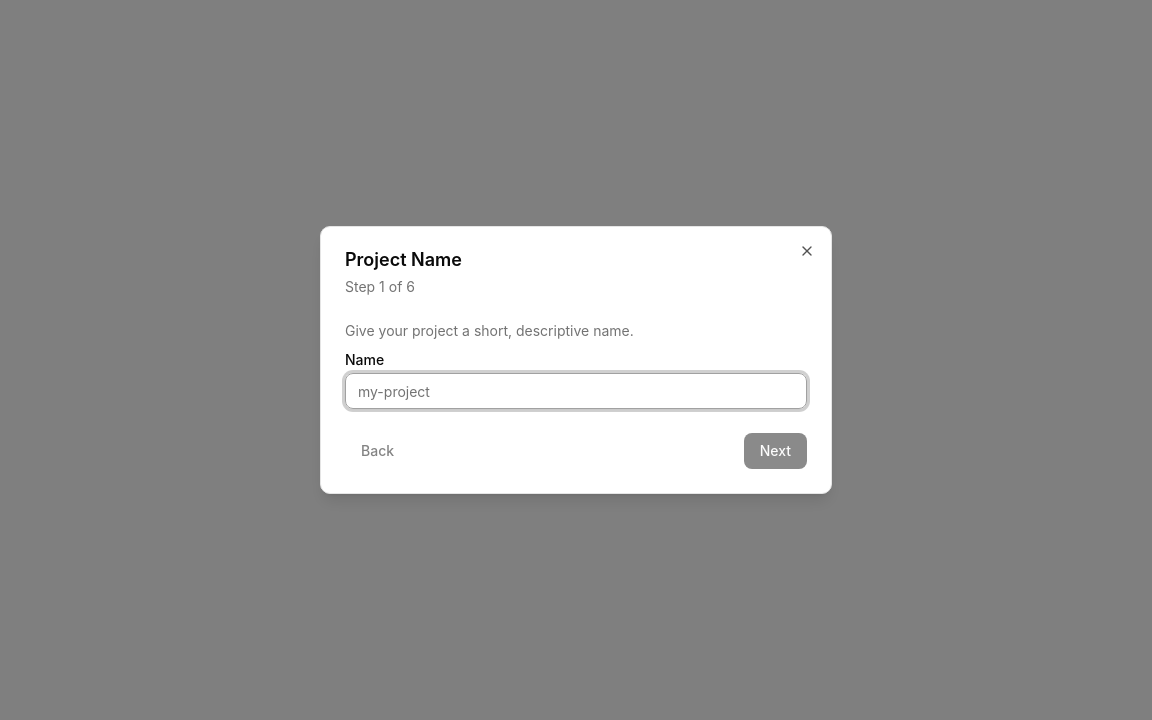
NewProjectWizard › shows Create Project button on the last step (step 6)
The width and height of the screenshot is (1152, 720).
Type "demo-project" into the field labelled "Name" at (576, 391), box x1=345 y1=373 x2=807 y2=409
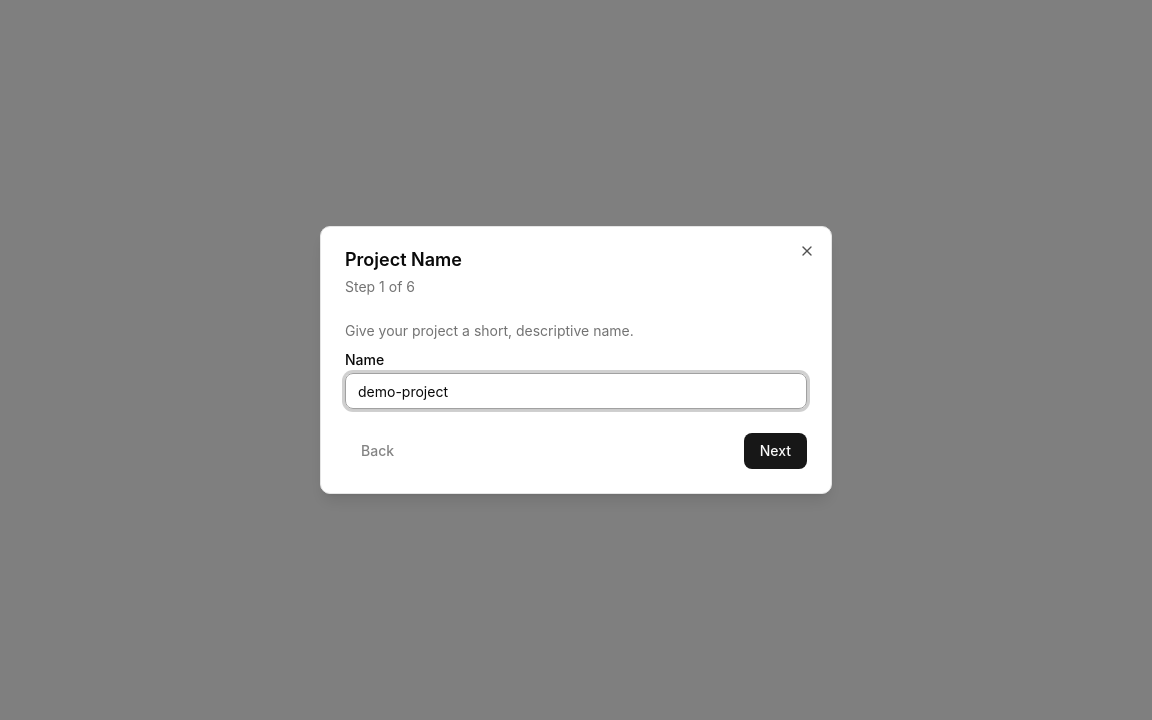
Click the button "Next" at (775, 451), box x1=744 y1=433 x2=807 y2=469
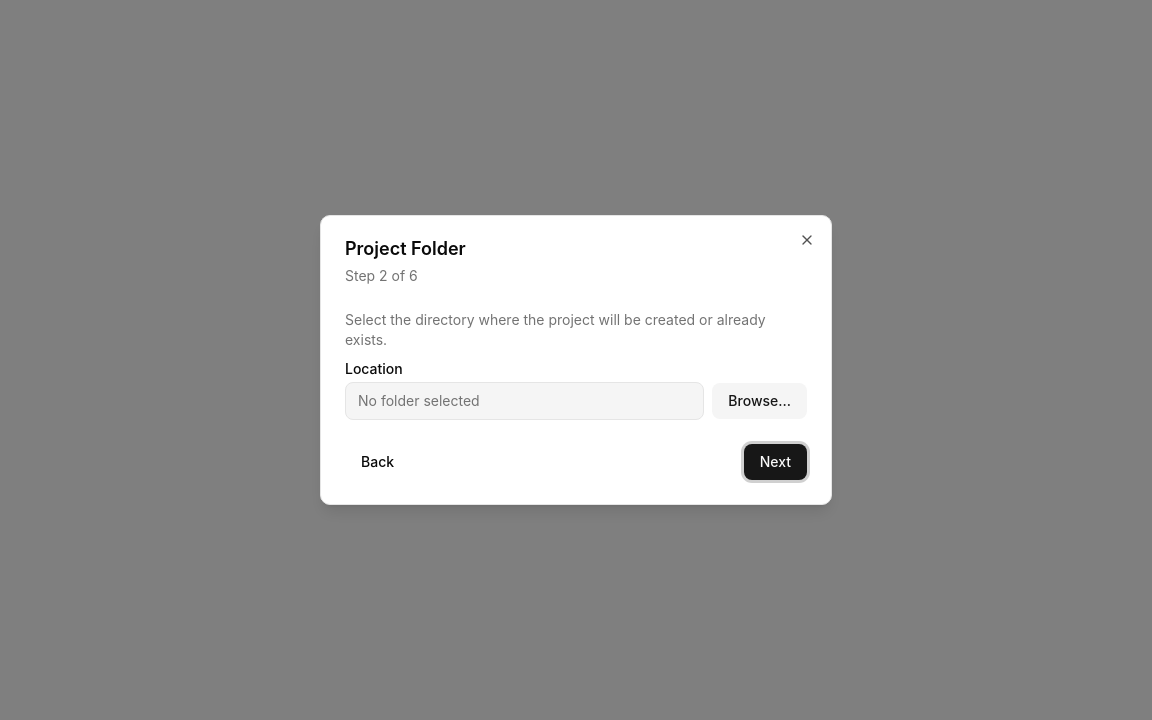
Click the button "Next" at (775, 462), box x1=744 y1=444 x2=807 y2=480
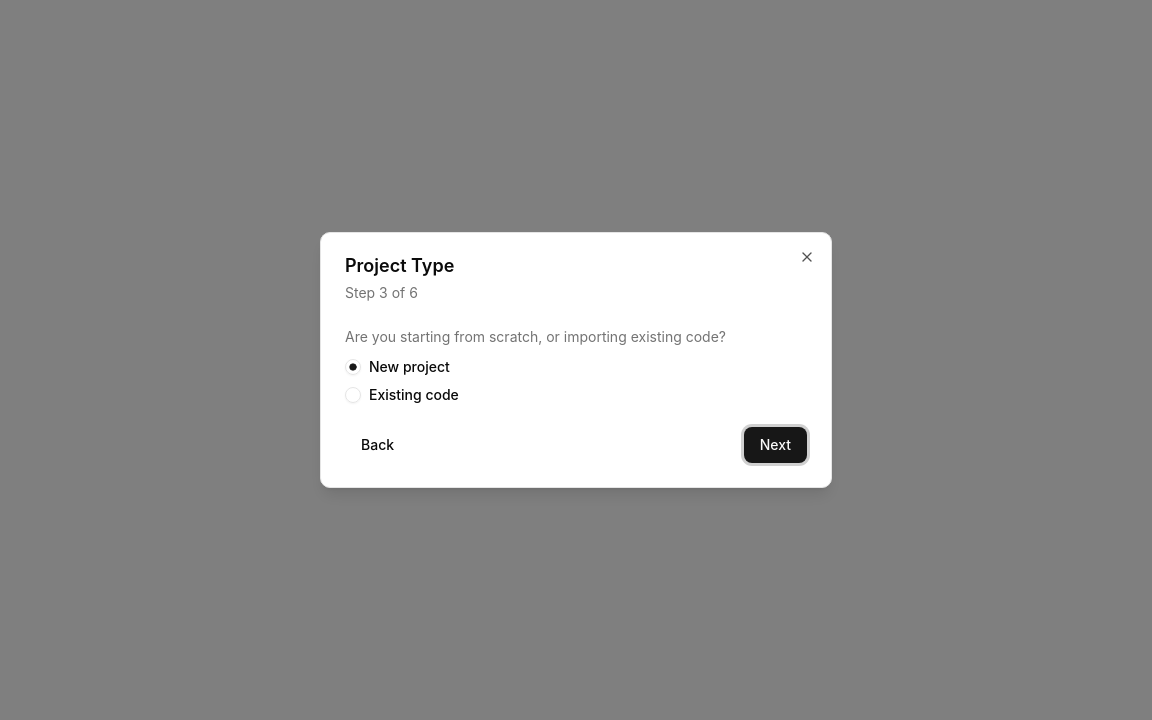
Click the button "Next" at (775, 445), box x1=744 y1=427 x2=807 y2=463
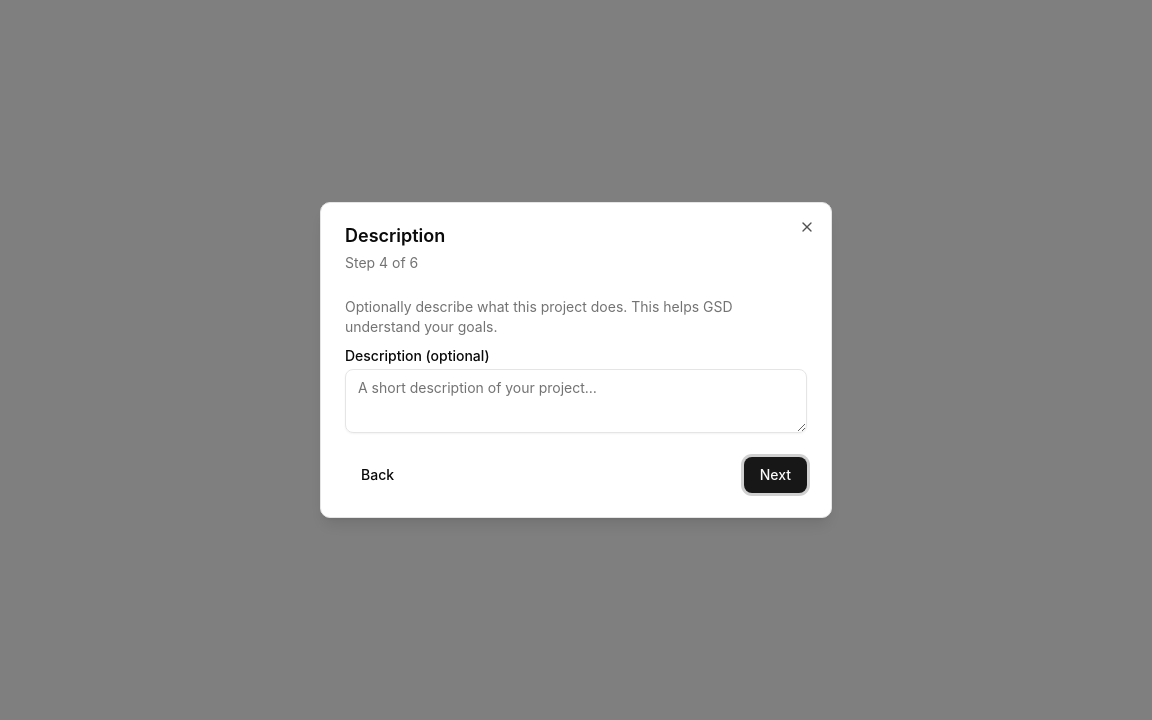
Click the button "Next" at (775, 475), box x1=744 y1=457 x2=807 y2=493
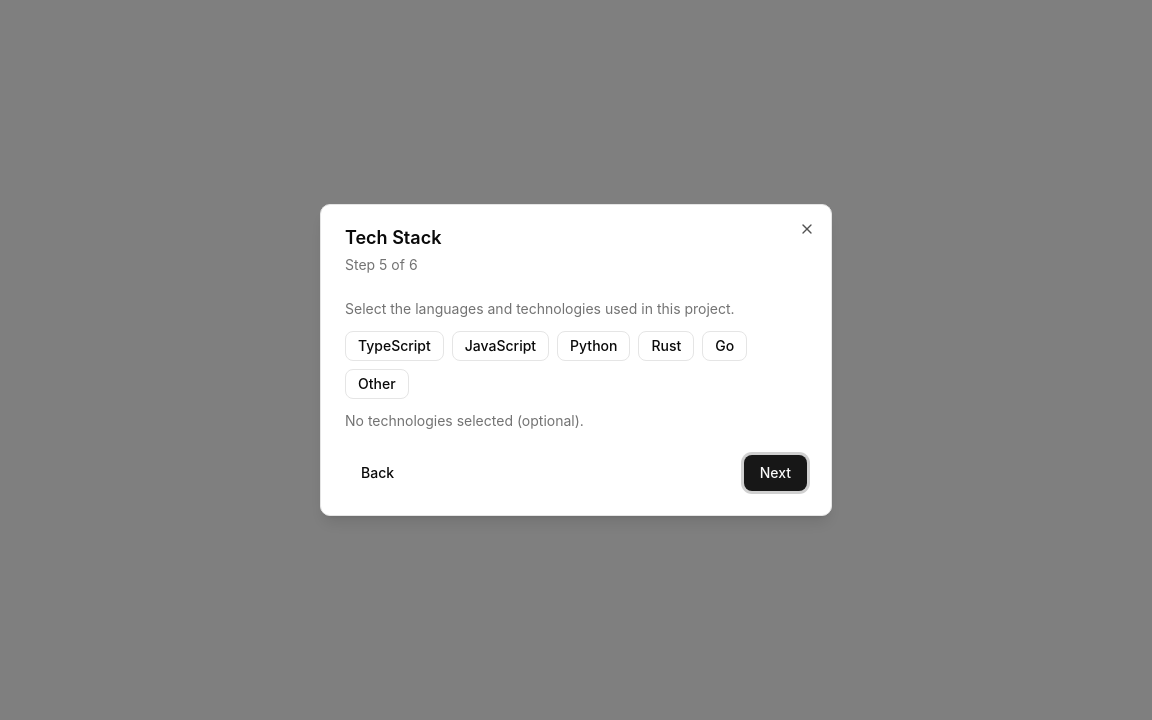
Click the button "Next" at (775, 473), box x1=744 y1=455 x2=807 y2=491
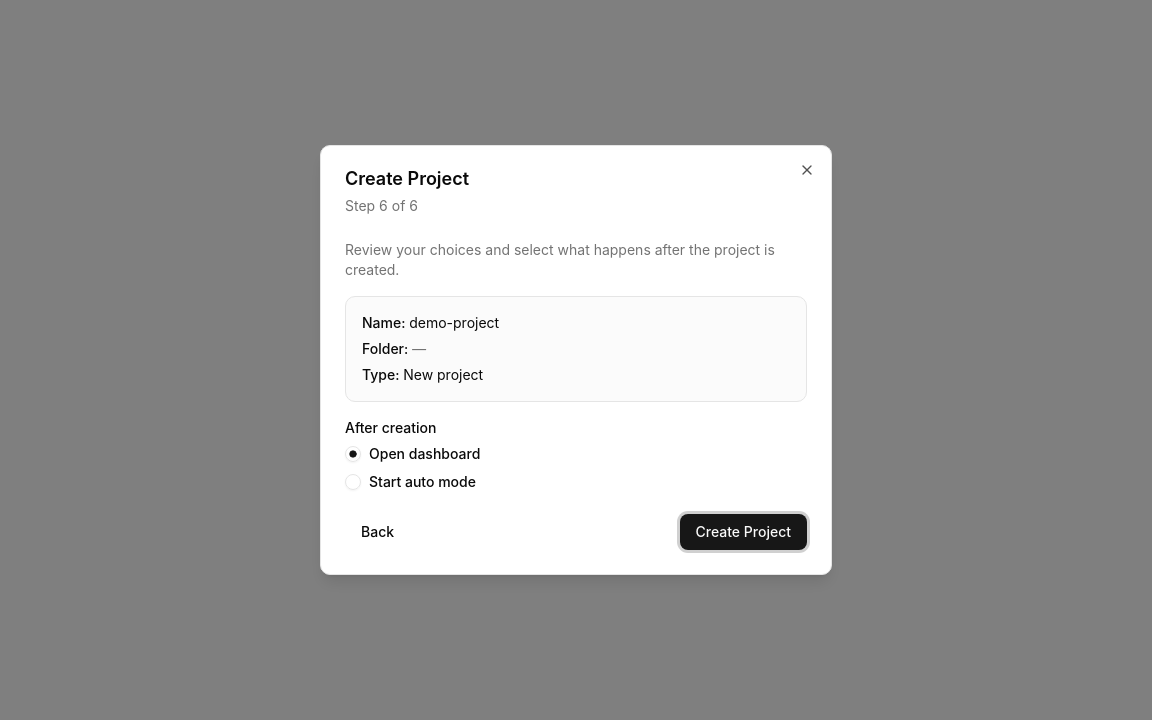
Now the text "Step 6 of 6" is shown, box x1=345 y1=197 x2=418 y2=214
Now the button "Create Project" is shown, box x1=680 y1=514 x2=807 y2=550
Now the button "Next" is gone
